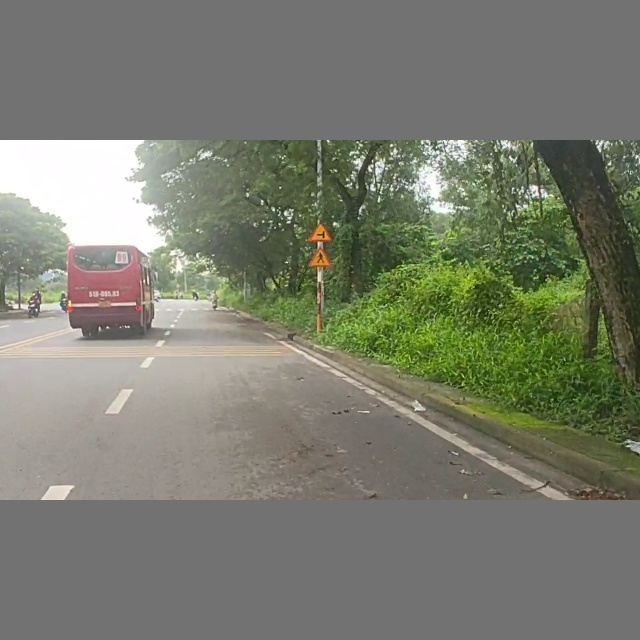W.205c: (305, 223, 334, 245)
W.224: (304, 248, 333, 273)
